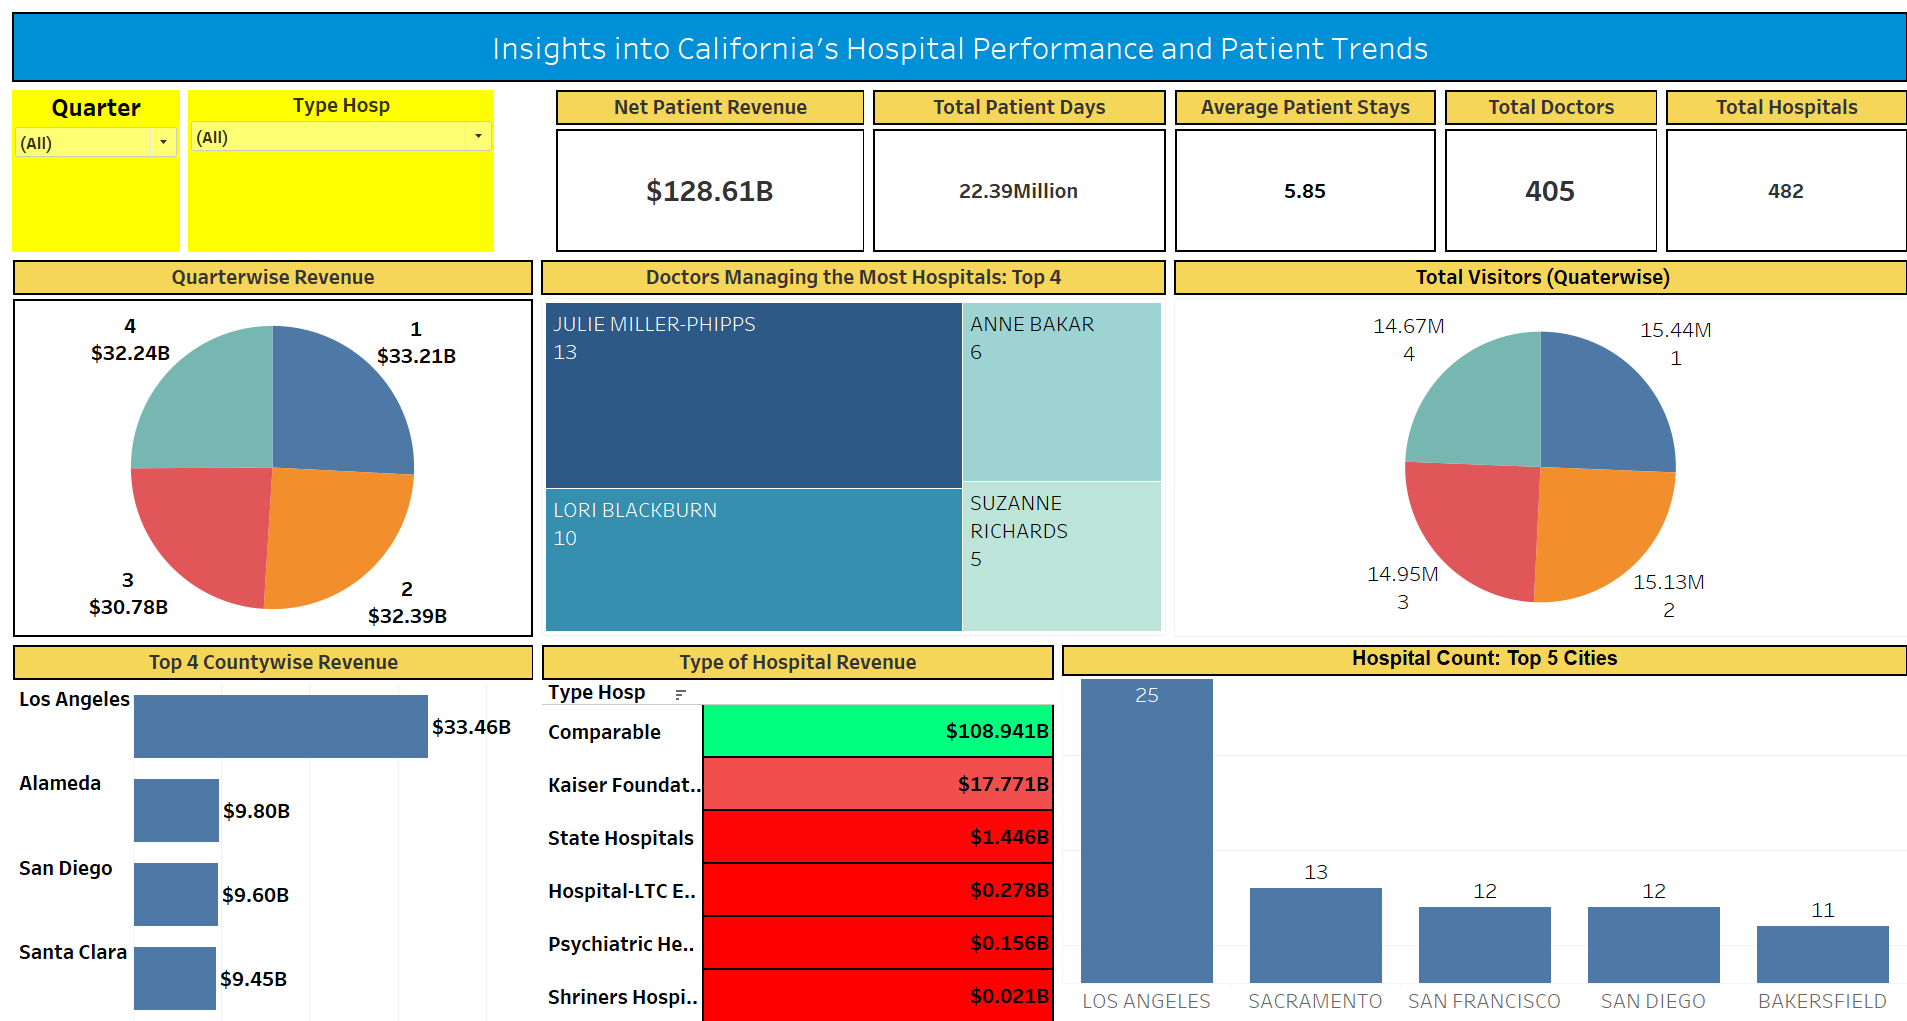

Layout of this report page (visuals, bound fields, positions):
{"tool":"powerbi","page":{"name":"DASHBOARD- SQL SERVER","canvas":[1280,720],"ordinal":0},"visuals":[{"type":"shape","box":[0,0,1280,58],"z":0},{"type":"multiRowCard","fields":{"Values":["Sum(hospital (2).NET_TOT)","Sum(hospital (2).DIS_TOT)","Sum(hospital (2).DAY_TOT)","Sum(hospital (2).VIS_TOT)","hospital (2).Doctors","hospital (2).FAC_NO"]},"box":[242.1,58.4,1037.2,75.1],"z":1000},{"type":"card","title":"Avg length of patient stay","fields":{"Values":["Sum(Query1.Overall_Average_Length_of_Stay)"]},"box":[0,58.4,242.1,75.1],"z":2000},{"type":"pieChart","title":" NET_TOT by QTR_MONTH","fields":{"Y":["Sum(hospital (2).NET_TOT)"],"Category":["hospital (2).QTR_MONTH"]},"box":[407.1,133.7,431.4,303.8],"z":3000},{"type":"pieChart","title":"TOP 4 COUNTY WISE REVENUE","fields":{"Category":["hospital (2).COUNTY_NAME"],"Y":["Sum(hospital (2).NET_TOT)"]},"box":[838.5,437.5,441.5,283.5],"z":4000},{"type":"clusteredBarChart","title":"TOP 5 CITIES HOSP COUNT","fields":{"Category":["hospital (2).CITY"],"Y":["Count(hospital (2).FAC_NAME)"]},"box":[838.5,133.7,441.5,303.8],"z":5000},{"type":"clusteredColumnChart","fields":{"Y":["Sum(hospital (2).NET_TOT)"],"Category":["hospital (2).TYPE_HOSP"]},"box":[407.1,437.5,431.4,283.5],"z":6000},{"type":"advancedSlicerVisual","fields":{"Values":["hospital (2).QTR_MONTH"]},"box":[0,336.2,407.1,101.3],"z":7000},{"type":"slicer","fields":{"Values":["hospital (2).TYPE_HOSP"]},"box":[0,131.6,407.1,204.6],"z":8000},{"type":"donutChart","fields":{"Y":["Sum(hospital (2).STF_BEDS)","Sum(hospital (2).AVL_BEDS)","Sum(hospital (2).LIC_BEDS)"]},"box":[0,437.5,407.1,283.5],"z":9000}]}

Visuals, with their boxes on the page's 1280x720 design canvas (x1, y1, x2, y2). These are canvas units, not pixel positions in the 1907x1021 screenshot, which may show the page scaled, cropped or inside an application window:
shape: select_region(0, 0, 1280, 58)
multiRowCard - Sum(hospital (2).NET_TOT) x Sum(hospital (2).DIS_TOT): select_region(242, 58, 1279, 134)
"Avg length of patient stay" card: select_region(0, 58, 242, 134)
" NET_TOT by QTR_MONTH" pieChart: select_region(407, 134, 838, 438)
"TOP 4 COUNTY WISE REVENUE" pieChart: select_region(838, 438, 1280, 721)
"TOP 5 CITIES HOSP COUNT" clusteredBarChart: select_region(838, 134, 1280, 438)
clusteredColumnChart - Sum(hospital (2).NET_TOT) x hospital (2).TYPE_HOSP: select_region(407, 438, 838, 721)
advancedSlicerVisual - hospital (2).QTR_MONTH: select_region(0, 336, 407, 438)
slicer - hospital (2).TYPE_HOSP: select_region(0, 132, 407, 336)
donutChart - Sum(hospital (2).STF_BEDS) x Sum(hospital (2).AVL_BEDS): select_region(0, 438, 407, 721)
